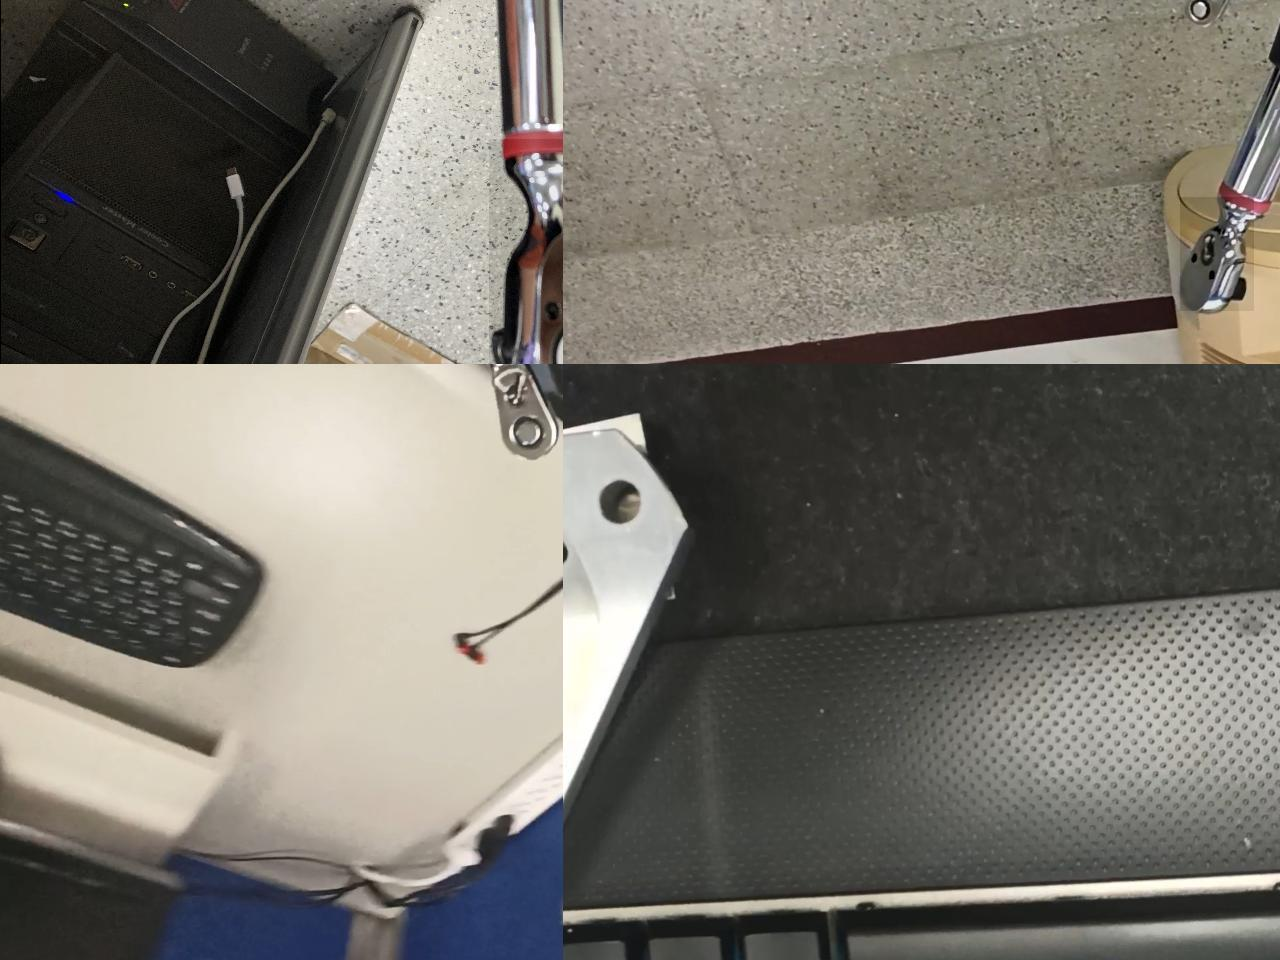Tool: (488, 138, 563, 364), (1179, 196, 1253, 310), (486, 364, 557, 458), (1186, 0, 1239, 25)
hole: (595, 476, 651, 527)
